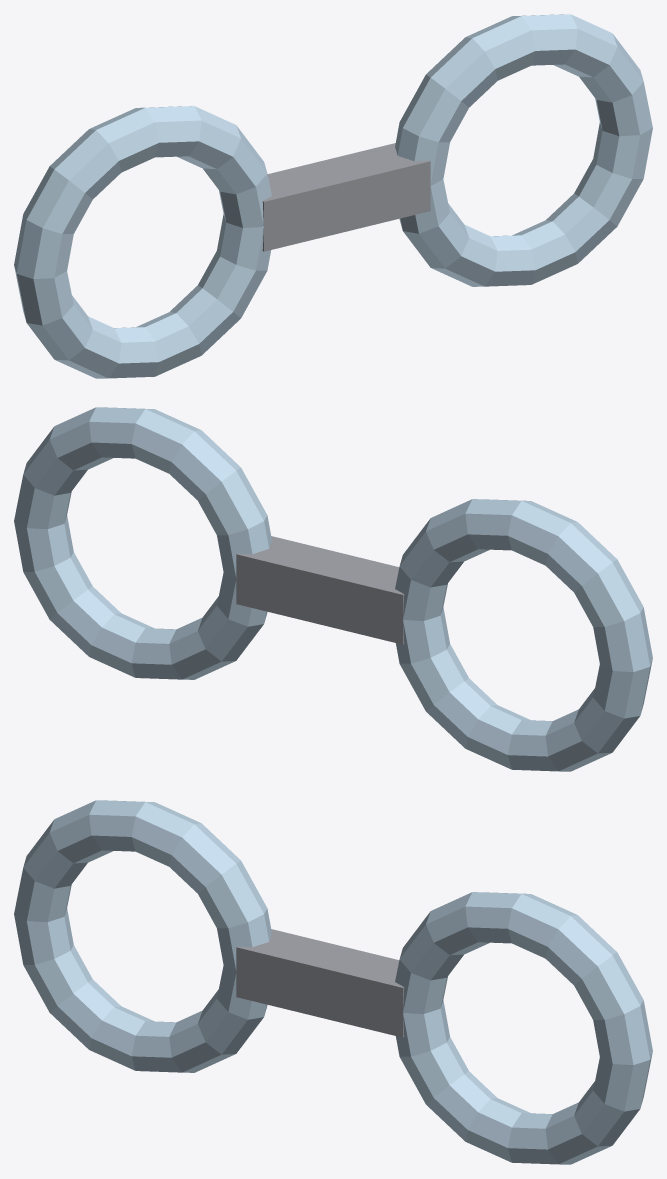
Rendered from prop_handcuffs.glb.
3 views of the same model, one above another, from view 1: azimuth 30°, elevation 25°; view 2: azimuth 150°, elevation 25°; view 3: azimuth 330°, elevation 25° (orthographic).
Visible parts, largest first — view 1: cuffs; view 2: cuffs; view 3: cuffs.
Boxes of the visible parts, left/top/right/bottom form: cuffs: left=14, top=14, right=652, bottom=378; cuffs: left=14, top=407, right=652, bottom=771; cuffs: left=14, top=800, right=652, bottom=1164.
Bounding box in the file's own units: 0.133 × 0.054 × 0.01.
Materials: 1 (1 with a texture image).
